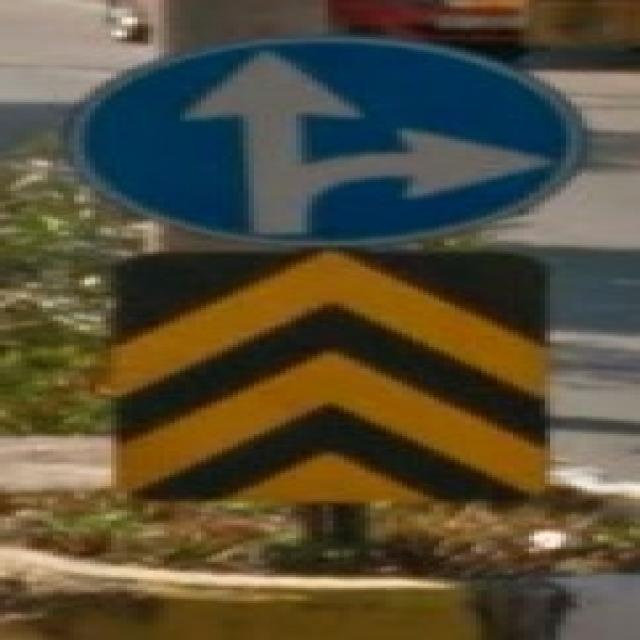Straight or Right: (91, 38, 588, 250)
